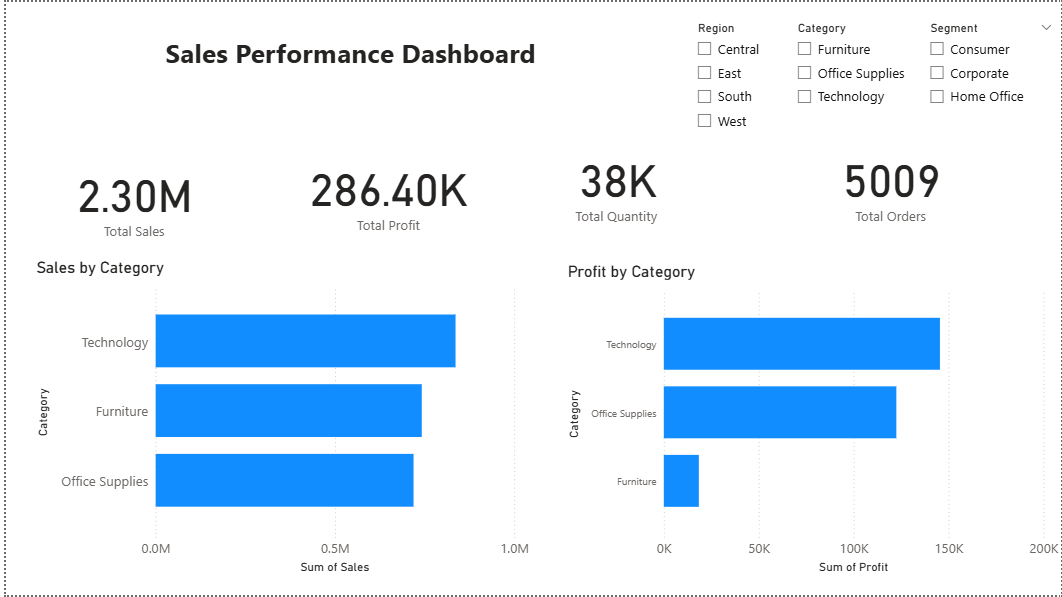

The page's visual inventory and layout, read from the dashboard file:
{"tool":"powerbi","page":{"name":"Page 1","canvas":[1280,720],"ordinal":0},"visuals":[{"type":"card","fields":{"Values":["Sum(Sample_ Superstore (2).Sales)"]},"box":[37.1,167.7,238.7,141.9],"z":0},{"type":"card","fields":{"Values":["Sum(Sample_ Superstore (2).Profit)"]},"box":[335.5,150,258.1,164.5],"z":1},{"type":"card","fields":{"Values":["Sum(Sample_ Superstore (2).Quantity)"]},"box":[620,150,245,142.5],"z":2},{"type":"card","fields":{"Values":["Count(Sample_ Superstore (2).Order ID)"]},"box":[922.5,150,300,142.5],"z":3},{"type":"clusteredBarChart","title":"Sales by Category","fields":{"Category":["Sample_ Superstore (2).Category"],"Y":["Sum(Sample_ Superstore (2).Sales)"]},"box":[32.5,310,607.5,387.5],"z":4},{"type":"clusteredBarChart","title":"Profit by Category","fields":{"Category":["Sample_ Superstore (2).Category"],"Y":["Sum(Sample_ Superstore (2).Profit)"]},"box":[675,315,605,382.5],"z":5},{"type":"slicer","fields":{"Values":["Sample_ Superstore (2).Region"]},"box":[825,17.5,140,150],"z":6},{"type":"slicer","fields":{"Values":["Sample_ Superstore (2).Category"]},"box":[947.5,17.5,150,150],"z":7},{"type":"slicer","fields":{"Values":["Sample_ Superstore (2).Segment"]},"box":[1107.5,17.5,172.5,150],"z":8},{"type":"textbox","box":[37.5,35,760,115],"z":9}]}

Visuals, with their boxes in screenshot pixels (x1, y1, x2, y2), scaled from the page's 1280x720 canvas onto the 1062x597 screenshot:
card - Sum(Sample_ Superstore (2).Sales): Rect(31, 139, 229, 257)
card - Sum(Sample_ Superstore (2).Profit): Rect(278, 124, 493, 261)
card - Sum(Sample_ Superstore (2).Quantity): Rect(514, 124, 718, 243)
card - Count(Sample_ Superstore (2).Order ID): Rect(765, 124, 1014, 243)
"Sales by Category" clusteredBarChart: Rect(27, 257, 531, 578)
"Profit by Category" clusteredBarChart: Rect(560, 261, 1061, 578)
slicer - Sample_ Superstore (2).Region: Rect(684, 15, 801, 139)
slicer - Sample_ Superstore (2).Category: Rect(786, 15, 911, 139)
slicer - Sample_ Superstore (2).Segment: Rect(919, 15, 1061, 139)
textbox: Rect(31, 29, 662, 124)
